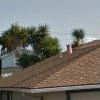Palm tree: (66, 21, 94, 50)
